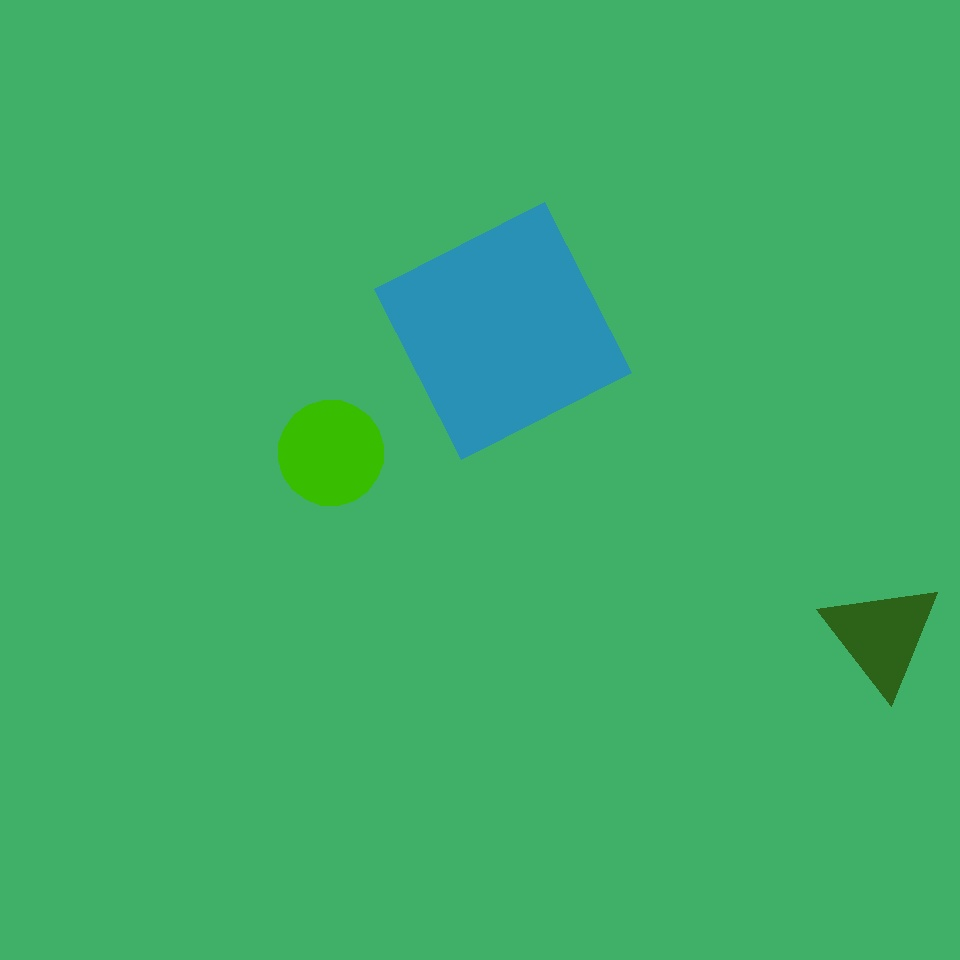circle: (822, 579, 942, 693)
square: (374, 202, 631, 460)
triangle: (450, 416, 740, 706), (406, 14, 684, 293), (278, 400, 384, 506)
